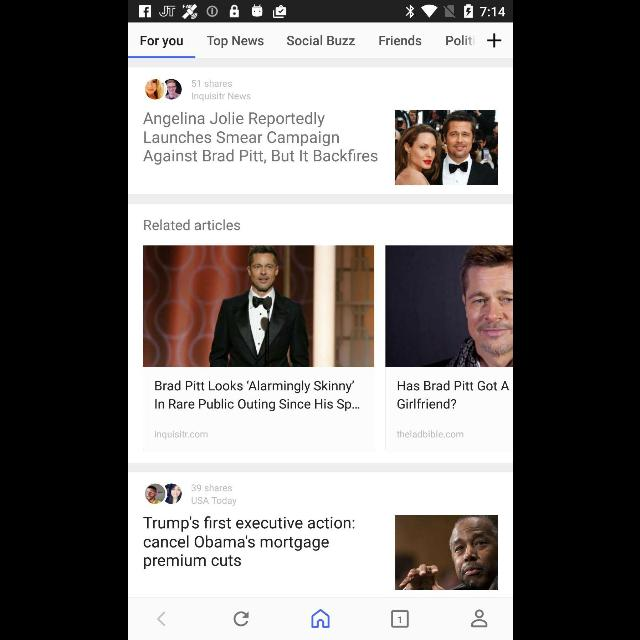icon: (310, 610, 330, 628), (471, 610, 487, 628), (232, 611, 248, 627), (487, 34, 501, 48), (156, 612, 164, 626)
image: (142, 246, 374, 366), (384, 245, 512, 367), (394, 514, 498, 590), (394, 110, 498, 186), (144, 80, 182, 100), (144, 484, 180, 504), (390, 610, 408, 628)
multitab: (128, 23, 512, 59)
text: (142, 111, 378, 165), (142, 516, 354, 570), (154, 380, 358, 412), (397, 380, 509, 410), (143, 219, 239, 231), (286, 34, 354, 46), (206, 36, 264, 49), (192, 92, 250, 102), (140, 36, 182, 49), (396, 430, 462, 438), (154, 430, 206, 440), (191, 497, 237, 507), (379, 36, 421, 46), (190, 484, 232, 492), (190, 80, 232, 88), (446, 36, 474, 46)
uppertaskbar: (128, 1, 512, 23)
